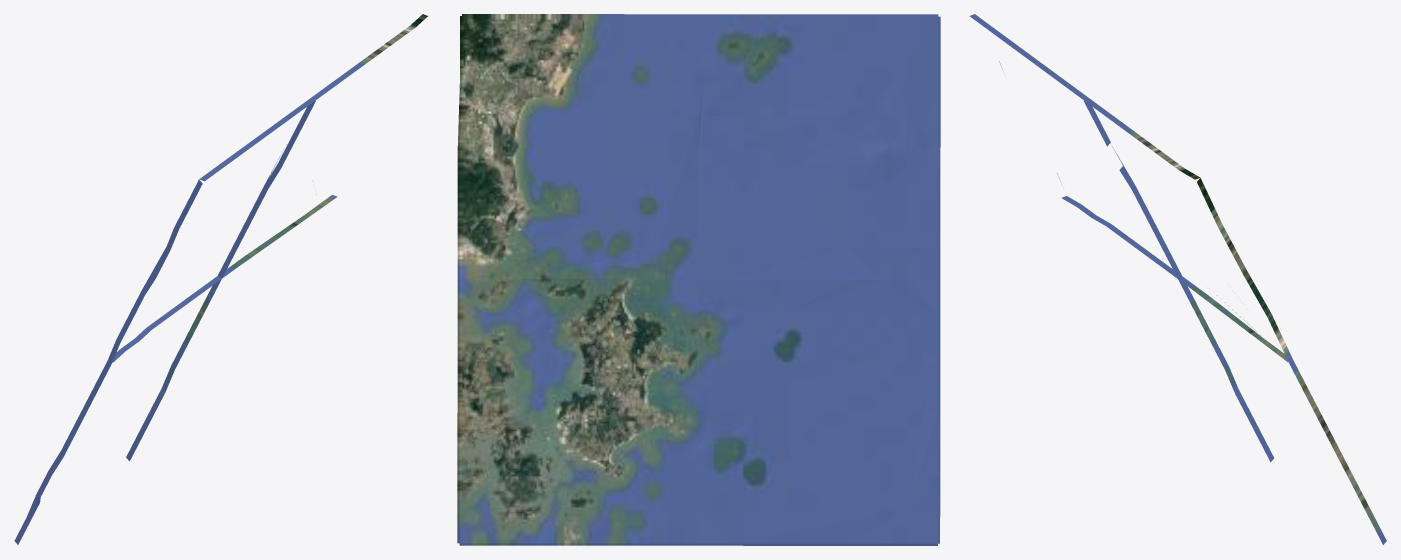
3 renders of one model, left to right at view 1: azimuth 30°, elevation 25°; view 2: azimuth 150°, elevation 25°; view 3: azimuth 270°, elevation 25°, orthographic. The views are drawn at different scales.
Size of the model in its own units: 78572 by 71489 by 65650.
Materials: 1 (1 with a texture image).
